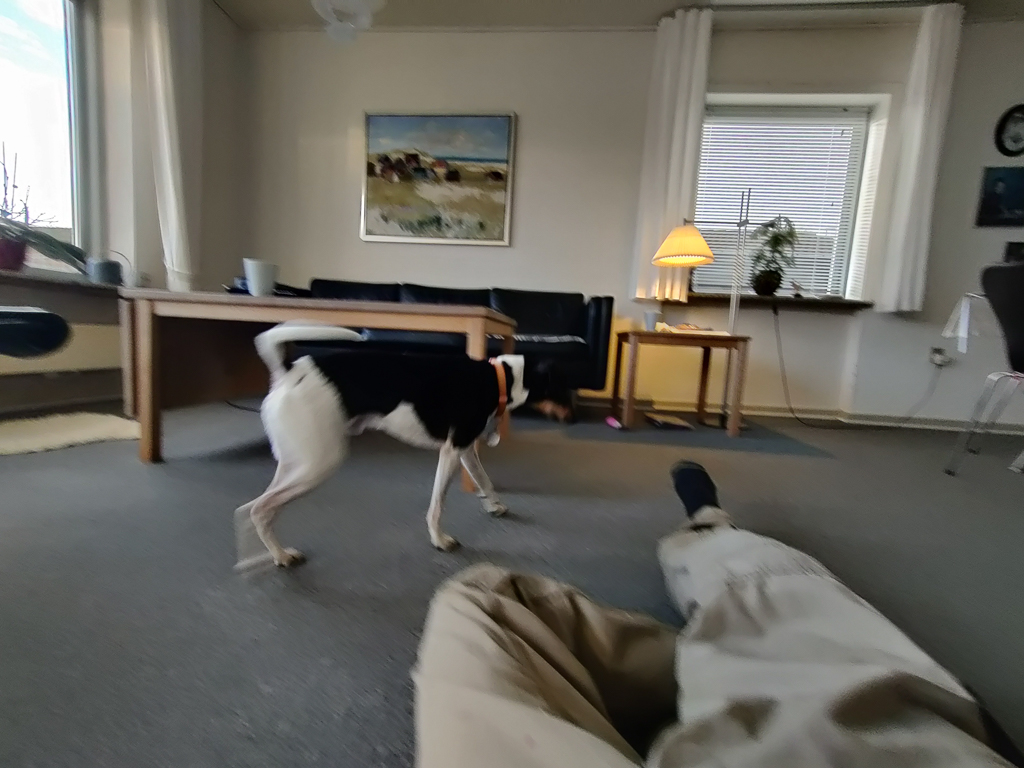Dog: (213, 309, 597, 606)
Humanoid: (402, 454, 1024, 768)
